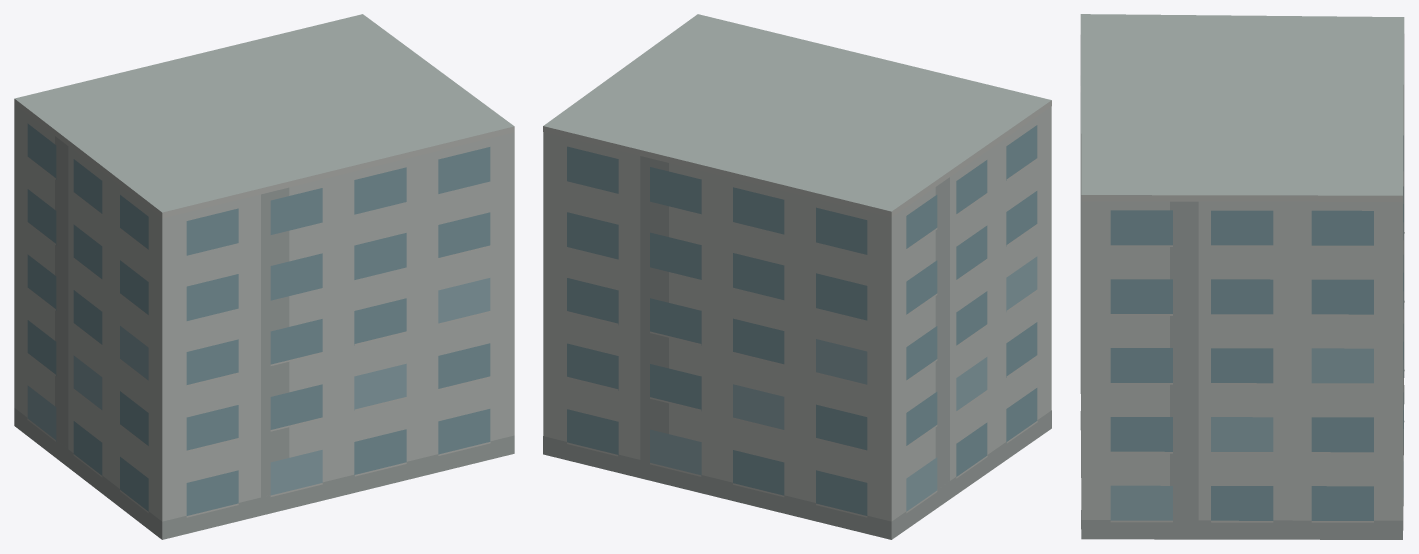
Rendered from survey-upis-32550704.glb.
3 views of the same model, side by side, from view 1: azimuth 30°, elevation 25°; view 2: azimuth 150°, elevation 25°; view 3: azimuth 270°, elevation 25° (orthographic). The views are drawn at different scales.
Parts seen in each view (by area): view 1: survey-upis-32550704.tmp; view 2: survey-upis-32550704.tmp; view 3: survey-upis-32550704.tmp.
Part boxes in pixels (<box>): survey-upis-32550704.tmp: <box>14,14,514,539</box>; survey-upis-32550704.tmp: <box>543,14,1051,539</box>; survey-upis-32550704.tmp: <box>1080,14,1404,539</box>.
Size of the model in its own units: 14.95 by 13.2 by 11.27.
